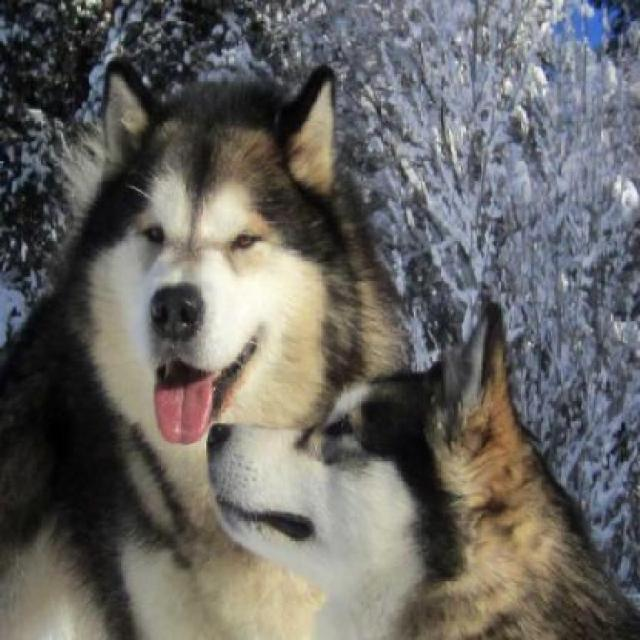animals: (26, 42, 409, 556), (194, 307, 616, 640)
